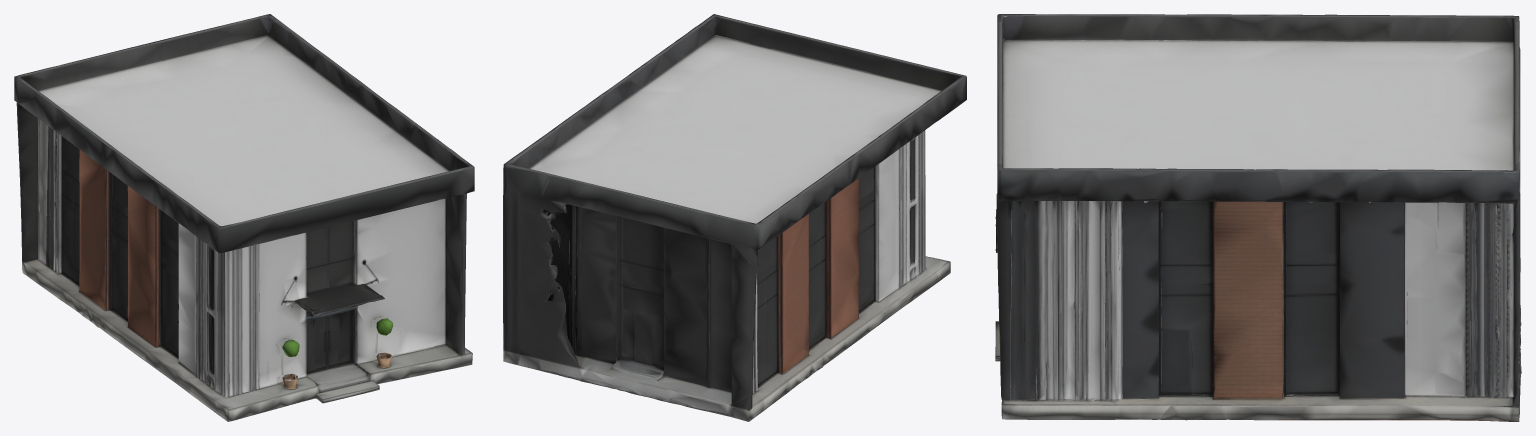
Rendered from işmerkezi.fbx.
3 views of the same model, side by side, from view 1: azimuth 30°, elevation 25°; view 2: azimuth 150°, elevation 25°; view 3: azimuth 270°, elevation 25° (orthographic). The views are drawn at different scales.
Parts seen in each view (by area): view 1: Mesh_0; view 2: Mesh_0; view 3: Mesh_0.
Boxes of the visible parts, x1=… form: Mesh_0: x1=14, y1=14, x2=474, y2=421; Mesh_0: x1=503, y1=14, x2=966, y2=421; Mesh_0: x1=995, y1=14, x2=1521, y2=421.
Bounding box in the file's own units: 136 × 100 × 191.
1 material, 1 textured.
